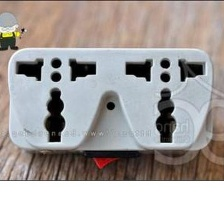three_eye_plug: (3, 40, 218, 156)
